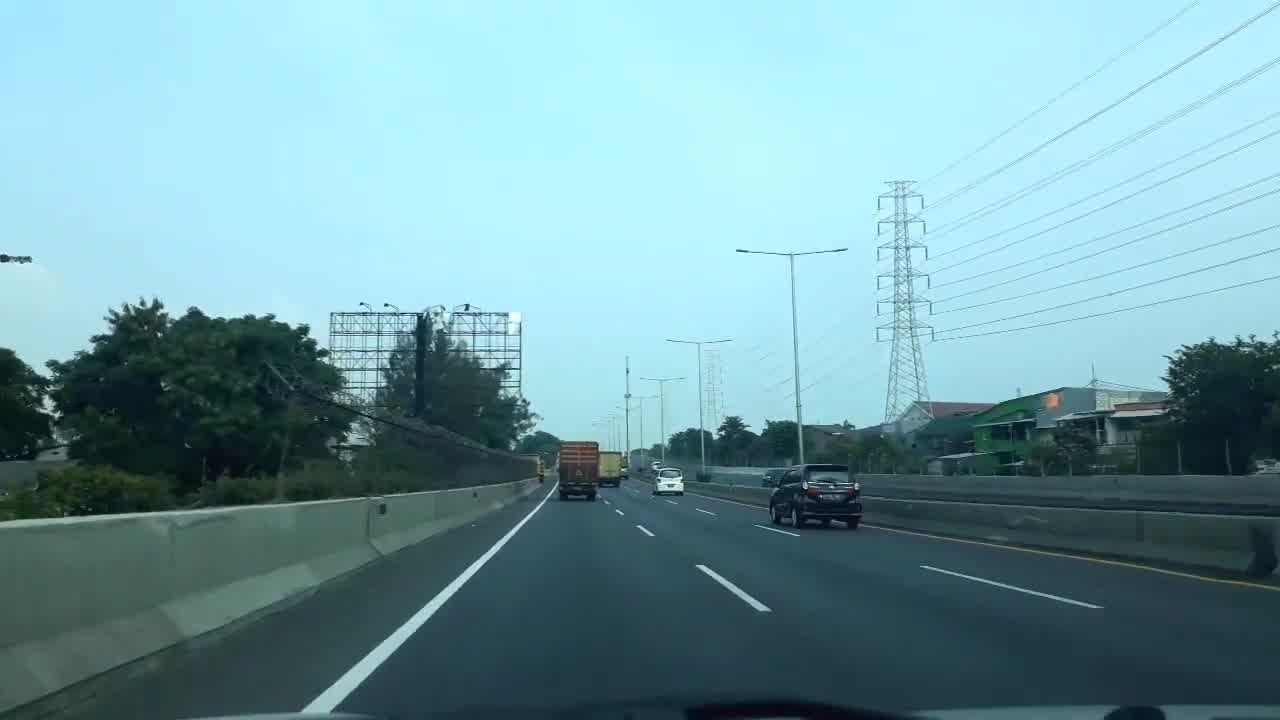plate_positive: (822, 494, 842, 500), (572, 486, 584, 491), (668, 484, 674, 487)
